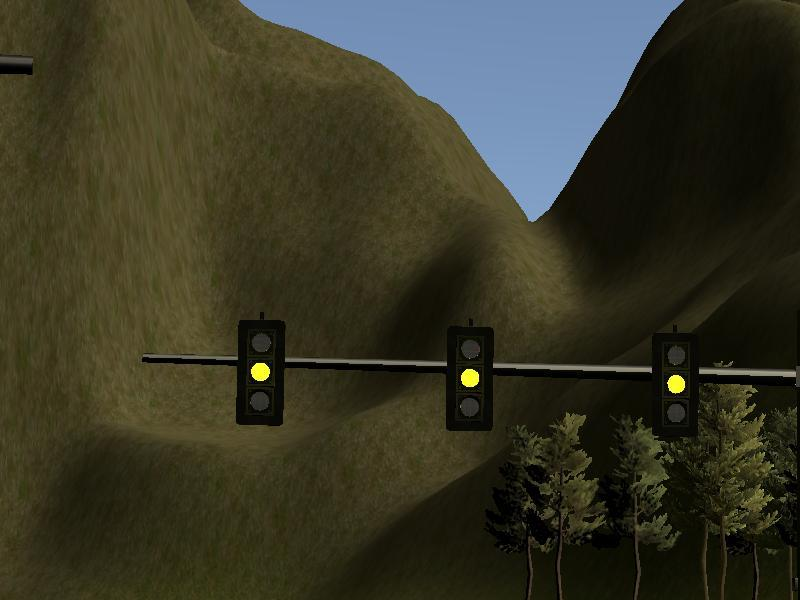Yellow: (236, 319, 284, 425), (447, 327, 494, 432), (653, 334, 698, 438)
